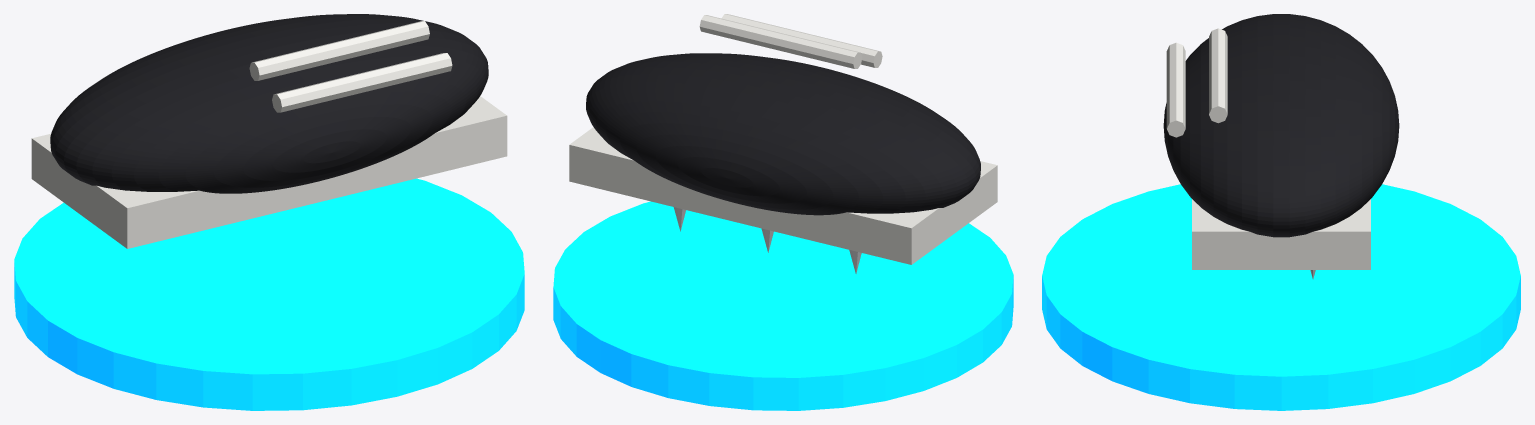
Rendered from sports_cleats.glb.
The picture shows the model from 3 angles, left to right: view 1: azimuth 30°, elevation 25°; view 2: azimuth 150°, elevation 25°; view 3: azimuth 270°, elevation 25°; orthographic projection. The views are drawn at different scales.
Visible parts, largest first — view 1: 04_17_Popular_Sports_Cleats_ROOT_base, 04_17_Popular_Sports_Cleats_part_01, 04_17_Popular_Sports_Cleats_part_02, 04_17_Popular_Sports_Cleats_part_03, 04_17_Popular_Sports_Cleats_part_04; view 2: 04_17_Popular_Sports_Cleats_ROOT_base, 04_17_Popular_Sports_Cleats_part_01, 04_17_Popular_Sports_Cleats_part_02, 04_17_Popular_Sports_Cleats_part_04, 04_17_Popular_Sports_Cleats_part_03; view 3: 04_17_Popular_Sports_Cleats_ROOT_base, 04_17_Popular_Sports_Cleats_part_01, 04_17_Popular_Sports_Cleats_part_02, 04_17_Popular_Sports_Cleats_part_03, 04_17_Popular_Sports_Cleats_part_04.
Part boxes in pixels (x1=…): 04_17_Popular_Sports_Cleats_ROOT_base: x1=14, y1=178, x2=524, y2=410; 04_17_Popular_Sports_Cleats_part_01: x1=50, y1=14, x2=488, y2=193; 04_17_Popular_Sports_Cleats_part_02: x1=31, y1=96, x2=507, y2=248; 04_17_Popular_Sports_Cleats_part_03: x1=272, y1=53, x2=452, y2=112; 04_17_Popular_Sports_Cleats_part_04: x1=249, y1=21, x2=429, y2=80; 04_17_Popular_Sports_Cleats_ROOT_base: x1=553, y1=201, x2=1013, y2=410; 04_17_Popular_Sports_Cleats_part_01: x1=586, y1=53, x2=980, y2=215; 04_17_Popular_Sports_Cleats_part_02: x1=569, y1=127, x2=997, y2=264; 04_17_Popular_Sports_Cleats_part_04: x1=699, y1=15, x2=862, y2=68; 04_17_Popular_Sports_Cleats_part_03: x1=721, y1=14, x2=882, y2=67; 04_17_Popular_Sports_Cleats_ROOT_base: x1=1042, y1=184, x2=1520, y2=410; 04_17_Popular_Sports_Cleats_part_01: x1=1163, y1=14, x2=1399, y2=237; 04_17_Popular_Sports_Cleats_part_02: x1=1192, y1=199, x2=1370, y2=269; 04_17_Popular_Sports_Cleats_part_03: x1=1166, y1=42, x2=1185, y2=137; 04_17_Popular_Sports_Cleats_part_04: x1=1209, y1=28, x2=1227, y2=123.
Bounding box in the file's own units: 0.76 × 0.4541 × 0.76.
